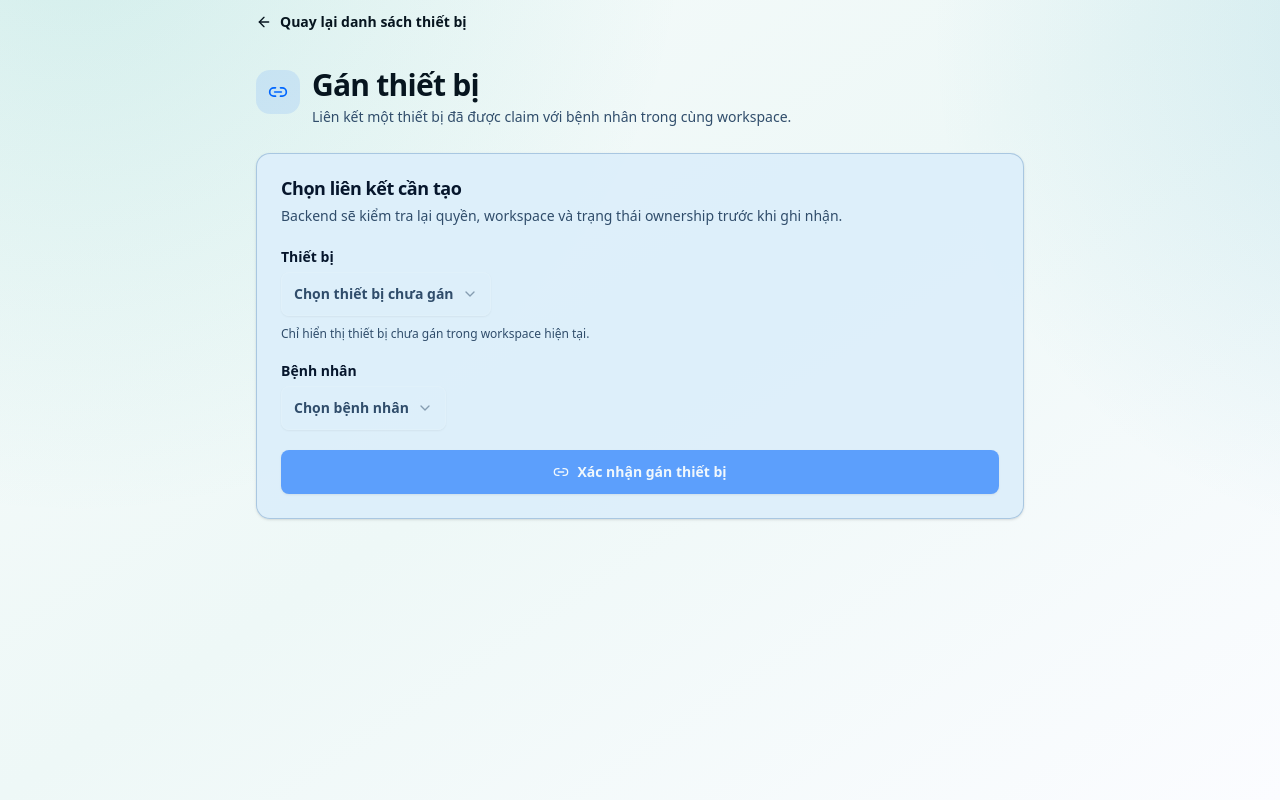
Scenario: AssignDevicePage › does not claim success when the backend receipt belongs to another workspace
Expected: the heading "Gán thiết bị" is shown, [312,64,479,105]
Press ArrowDown in the dropdown labelled "Chọn thiết bị chưa gán", box [281,272,491,316]
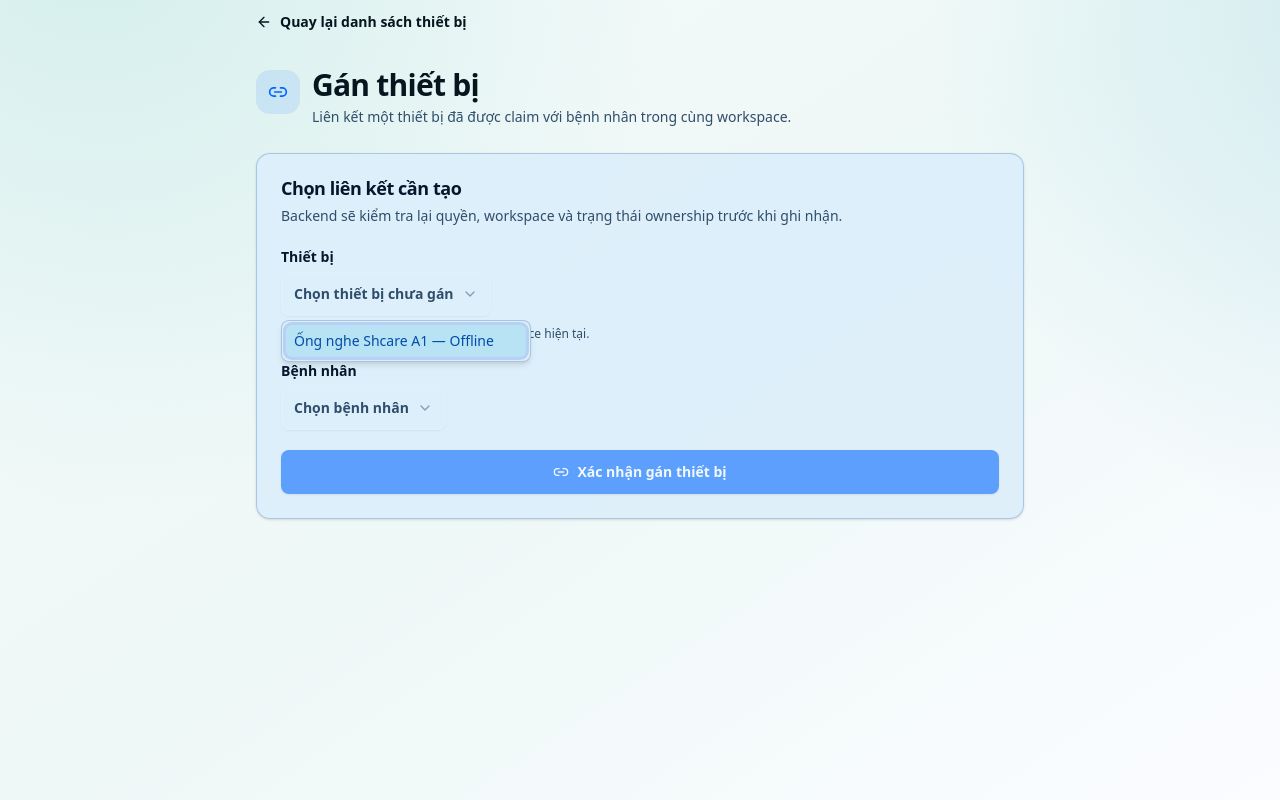
Click the option "Ống nghe Shcare A1 — Offline": {"x": 406, "y": 341} [286,325,526,357]
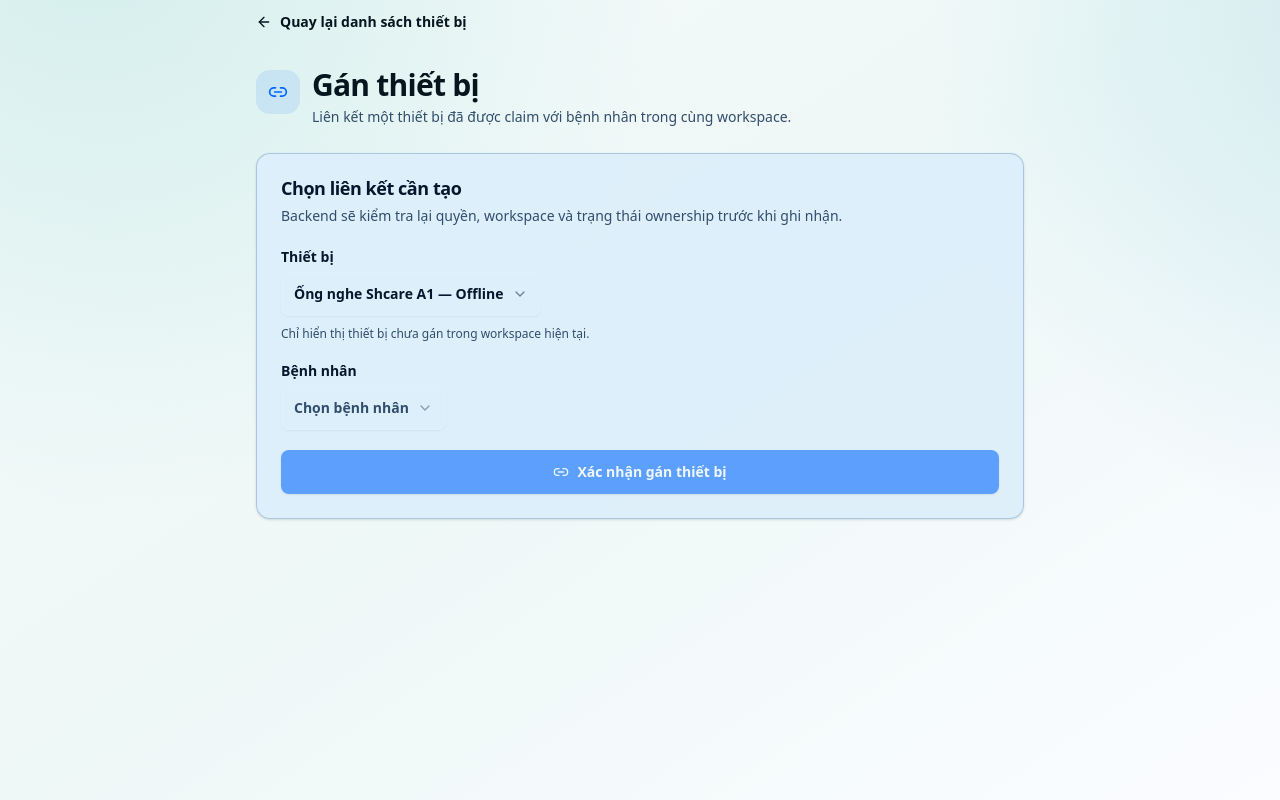
Press ArrowDown in the dropdown labelled "Chọn bệnh nhân", box [281,386,446,430]
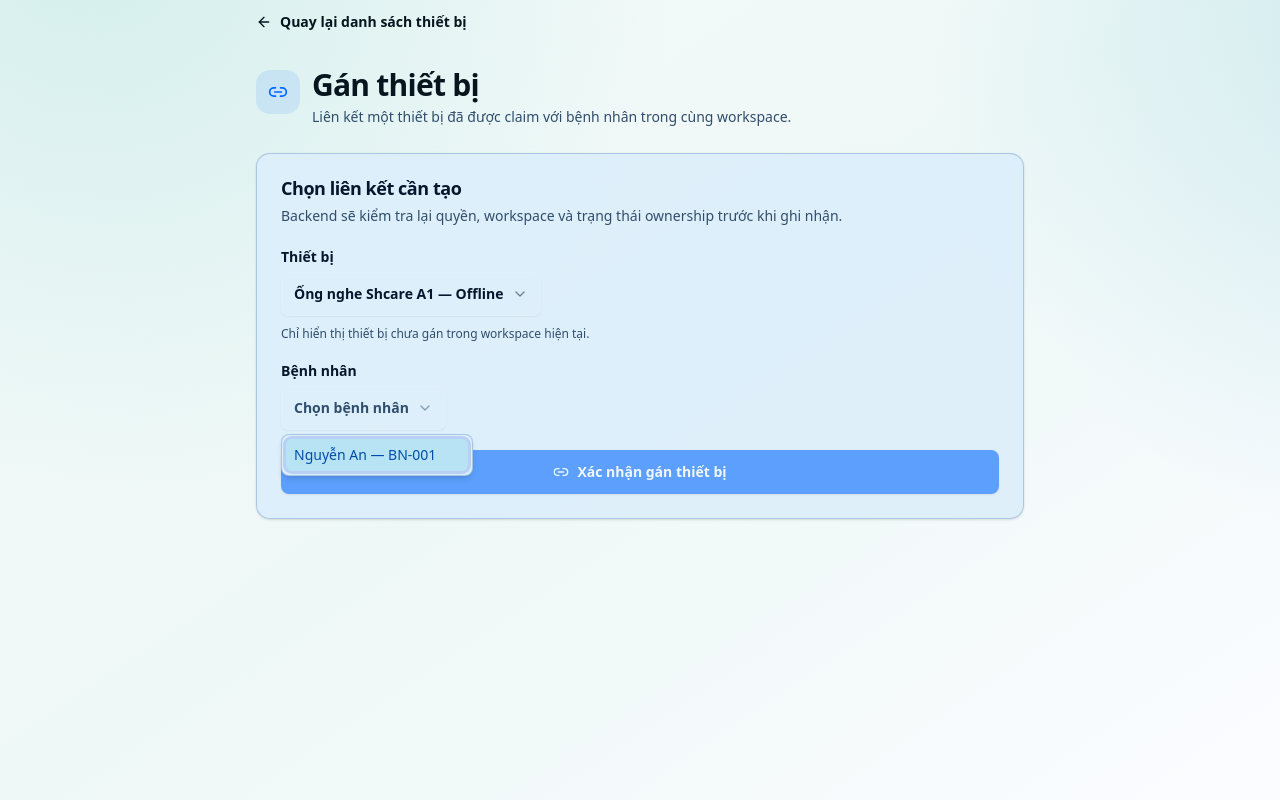
Click the option "Nguyễn An — BN-001": {"x": 377, "y": 455} [286,439,468,471]
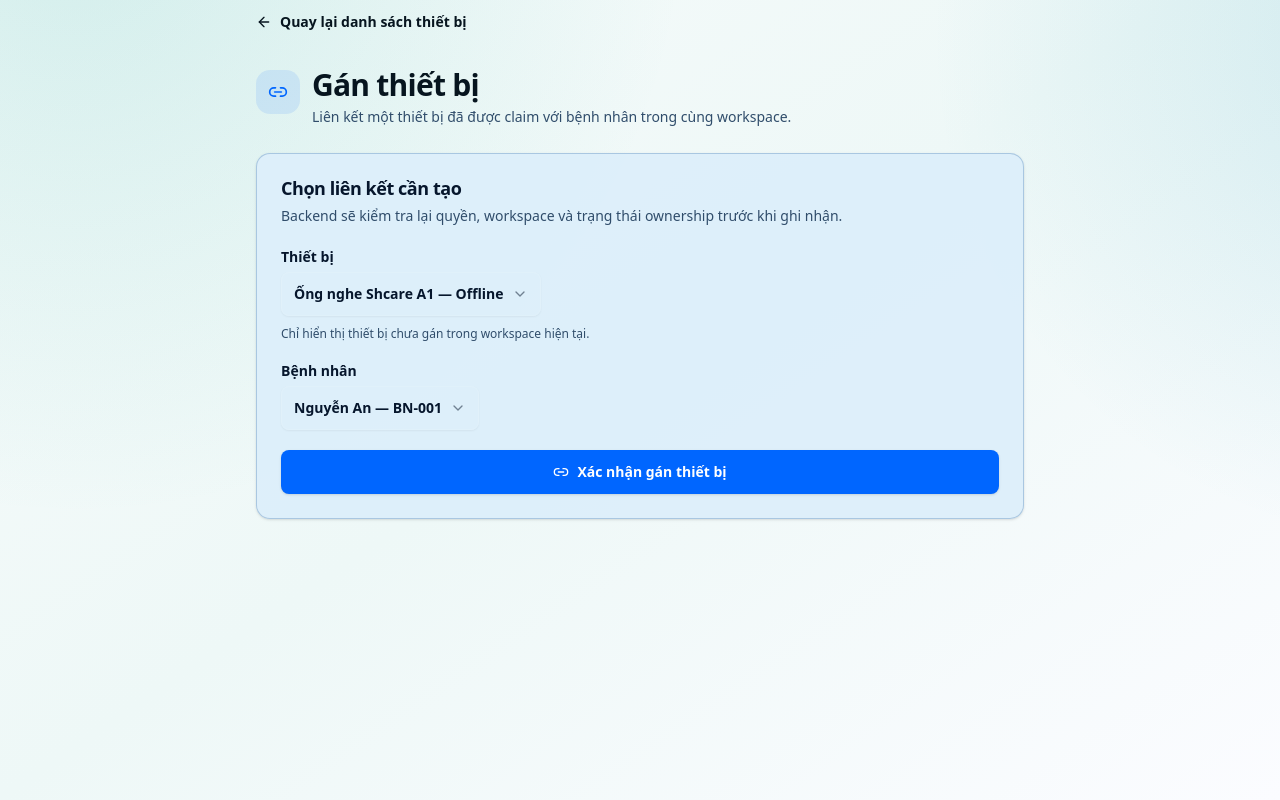
Click the button "Xác nhận gán thiết bị": {"x": 640, "y": 472} [281,450,999,494]
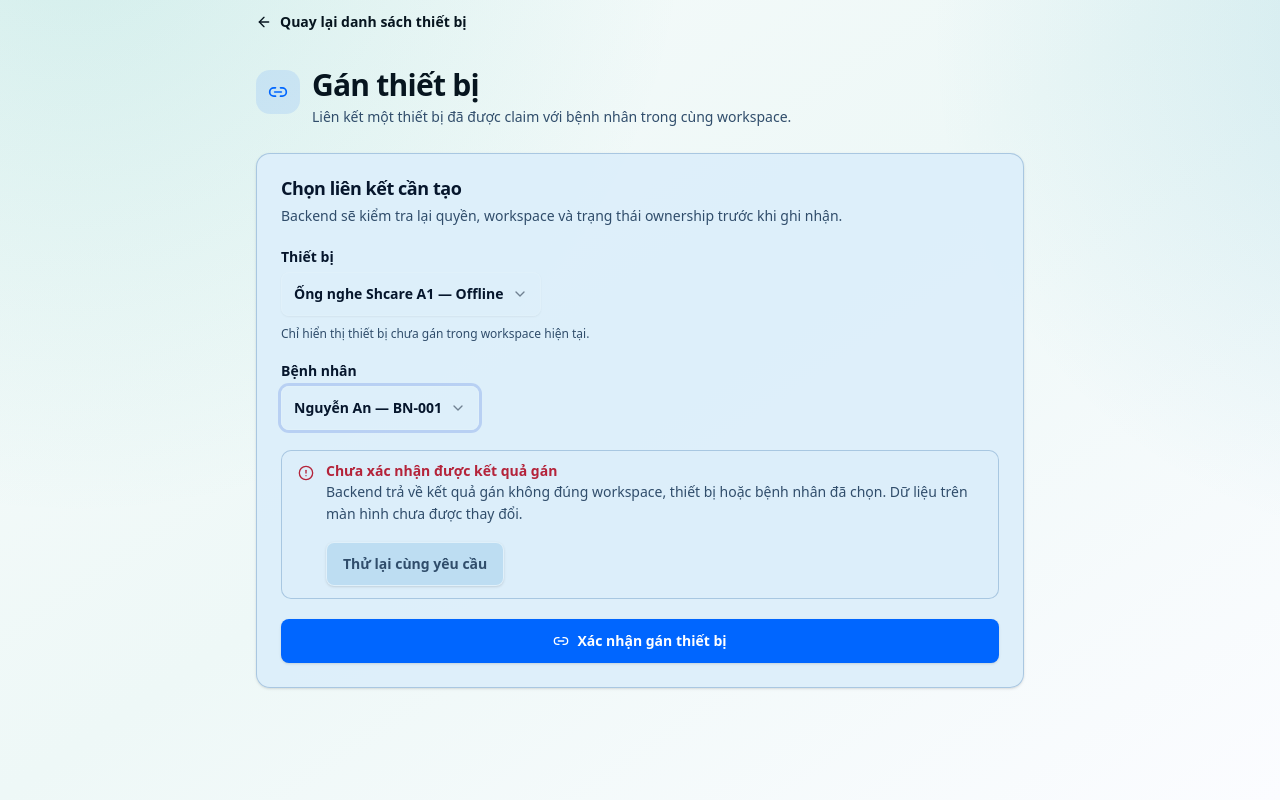
Result: the text "Backend trả về kết quả gán không đúng workspace" is shown at [326,482,968,524]
